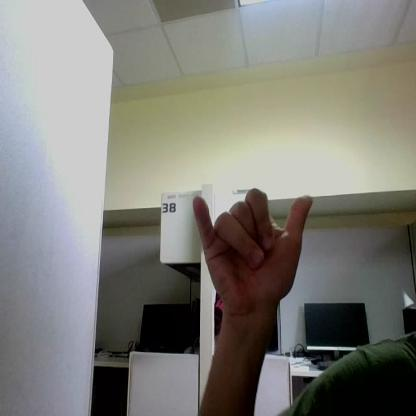Y: (193, 188, 312, 307)
